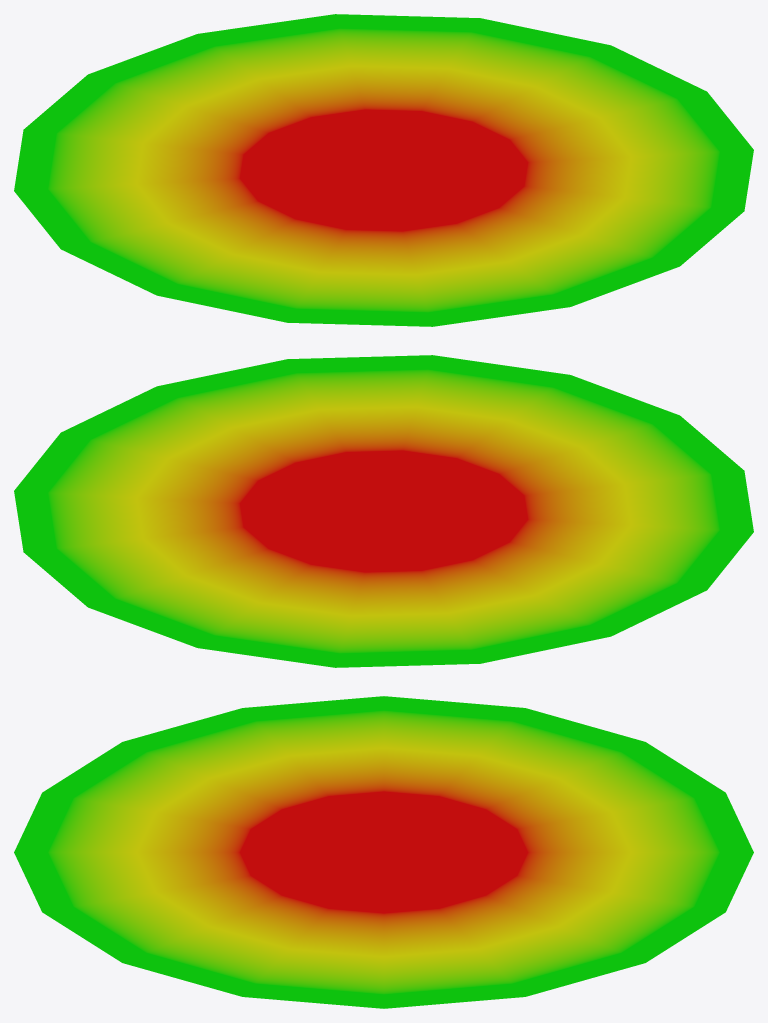
The model's file is WishSquidFountainWater_7.glb.
3 renders of one model, top to bottom at view 1: azimuth 30°, elevation 25°; view 2: azimuth 150°, elevation 25°; view 3: azimuth 270°, elevation 25°, orthographic.
Visible parts, largest first — view 1: WishSquidFountainWater; view 2: WishSquidFountainWater; view 3: WishSquidFountainWater.
Boxes of the visible parts, box(x1,y1,x2,y2) form: WishSquidFountainWater: box(14, 14, 753, 326); WishSquidFountainWater: box(14, 355, 753, 667); WishSquidFountainWater: box(14, 696, 753, 1008).
Size of the model in its own units: 1.85 by 1.61e-06 by 1.85.
